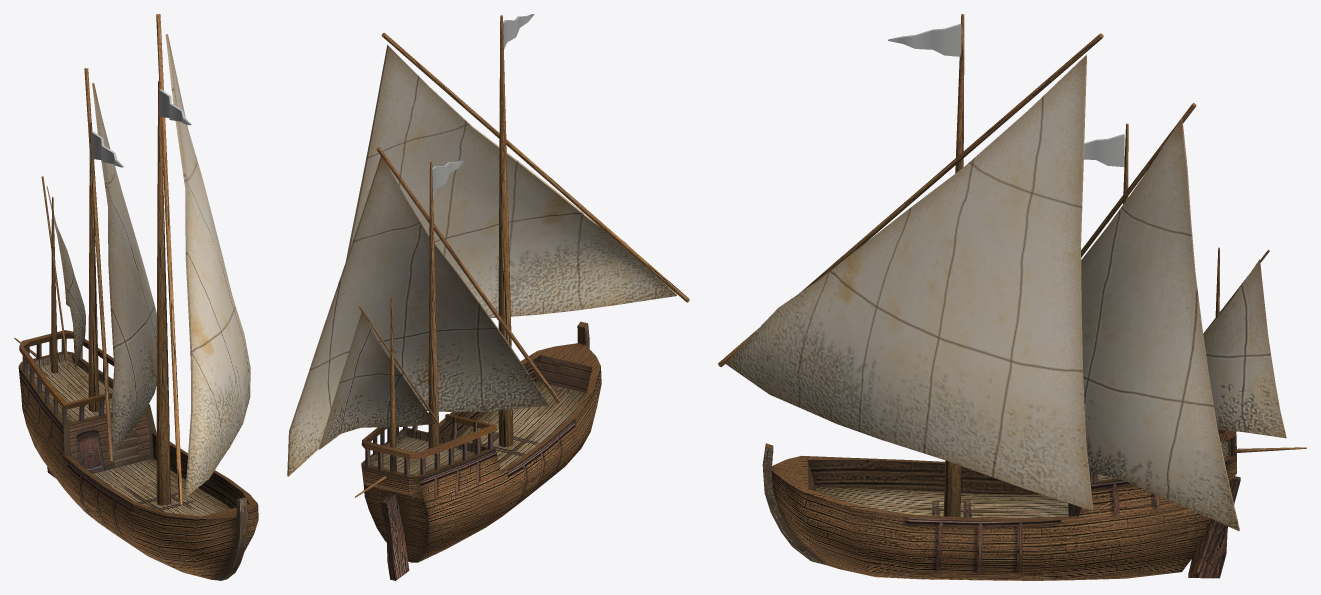
Rendered from ship_lvl_2.fbx.
3 views of the same model, side by side, from view 1: azimuth 30°, elevation 25°; view 2: azimuth 150°, elevation 25°; view 3: azimuth 270°, elevation 25° (orthographic). The views are drawn at different scales.
Parts seen in each view (by area): view 1: ship_lvl_2; view 2: ship_lvl_2; view 3: ship_lvl_2.
Part boxes in pixels (<box>): ship_lvl_2: <box>14,14,258,580</box>; ship_lvl_2: <box>287,14,689,580</box>; ship_lvl_2: <box>718,14,1306,580</box>.
Bounding box in the file's own units: 46.12 × 104 × 96.25.
